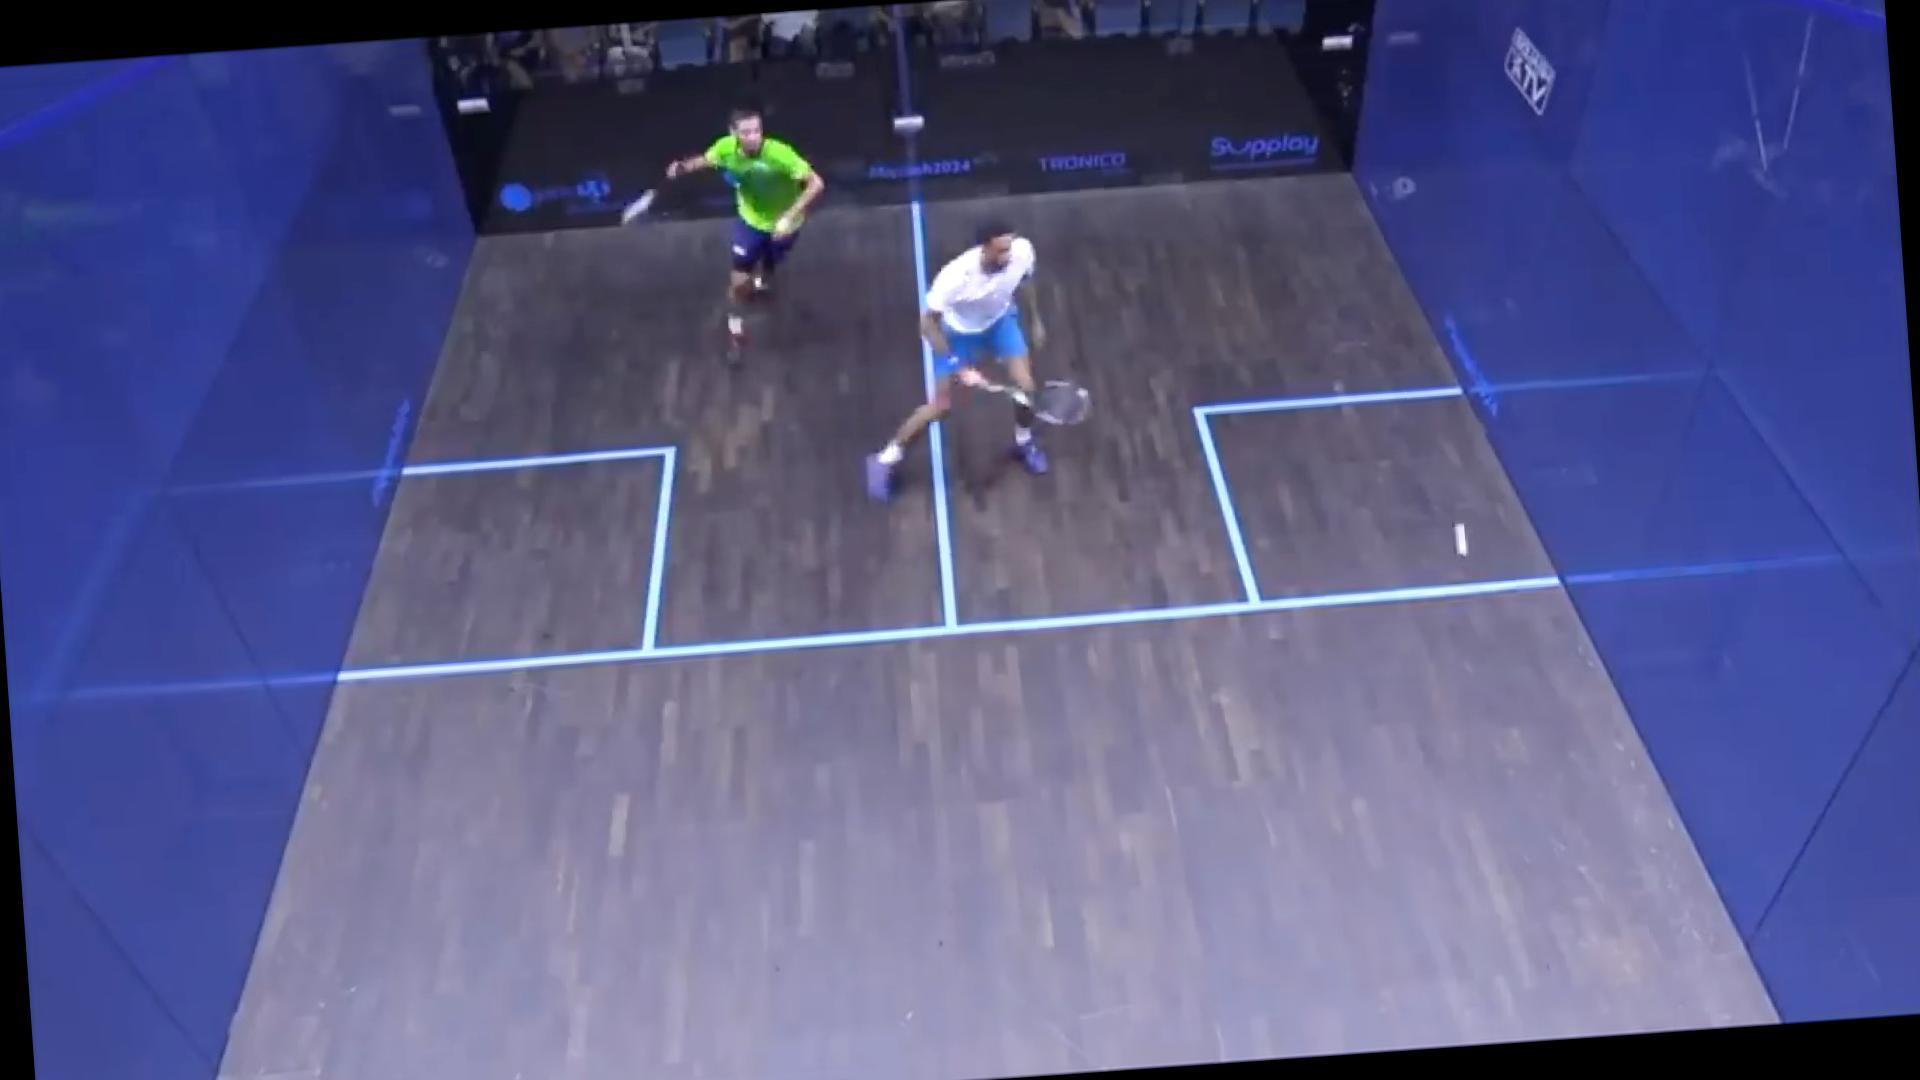Squash-Ball: (1437, 516, 1489, 567)
